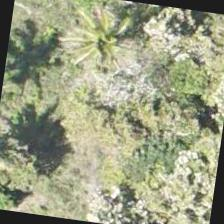Kelapa_Sawit: (60, 0, 162, 92)
